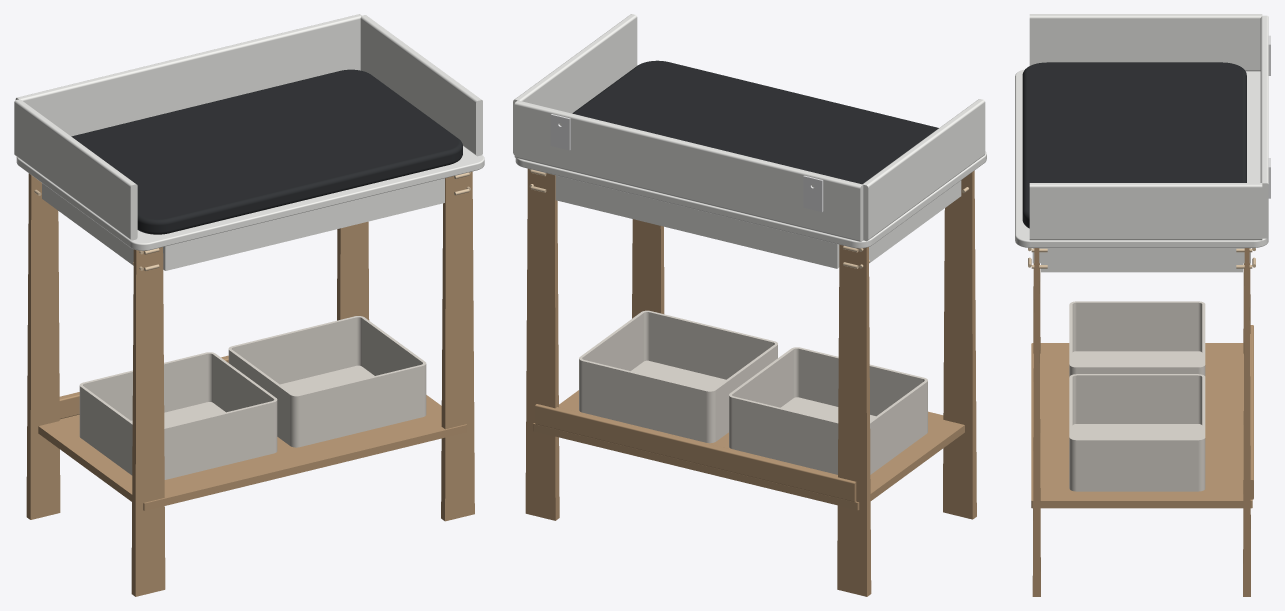
3 views of the same model, side by side, from view 1: azimuth 30°, elevation 25°; view 2: azimuth 150°, elevation 25°; view 3: azimuth 270°, elevation 25° (orthographic).
Visible parts, largest first — view 1: coat.1, fabric.2, body.6, fabric.1, wood.4, wood.5, wood.3, wood.2, body.8, body.3, body.7, body.1 (+2 smaller); view 2: coat.1, body.6, fabric.2, fabric.1, wood.2, wood.1, wood.4, wood.6, body.8, body.2, wood.5, body.7 (+5 smaller); view 3: coat.1, fabric.2, wood.5, body.7, body.8, fabric.1, body.1, body.4, wood.3, wood.1, body.6, wood.6.
Part boxes in pixels (<box>): coat.1: <box>71,69,462,234</box>; fabric.2: <box>228,316,426,447</box>; body.6: <box>15,14,361,136</box>; fabric.1: <box>79,352,277,479</box>; wood.4: <box>131,247,165,596</box>; wood.5: <box>38,395,466,510</box>; wood.3: <box>441,171,474,521</box>; wood.2: <box>26,173,60,519</box>; body.8: <box>14,99,137,240</box>; body.3: <box>163,178,444,270</box>; body.7: <box>360,15,482,156</box>; body.1: <box>16,146,484,250</box>; coat.1: <box>572,60,938,184</box>; body.6: <box>514,100,863,241</box>; fabric.2: <box>579,310,777,443</box>; fabric.1: <box>729,347,927,474</box>; wood.2: <box>837,244,871,596</box>; wood.1: <box>525,168,559,520</box>; wood.4: <box>943,170,976,519</box>; wood.6: <box>535,404,856,502</box>; body.8: <box>862,99,985,241</box>; body.2: <box>555,175,839,268</box>; wood.5: <box>533,390,964,510</box>; body.7: <box>513,14,637,154</box>; coat.1: <box>1022,62,1246,228</box>; fabric.2: <box>1069,374,1205,491</box>; wood.5: <box>1031,343,1252,508</box>; body.7: <box>1029,183,1262,240</box>; body.8: <box>1029,14,1262,71</box>; fabric.1: <box>1069,301,1205,376</box>; body.1: <box>1015,69,1268,247</box>; body.4: <box>1041,248,1242,272</box>; wood.3: <box>1032,248,1040,596</box>; wood.1: <box>1243,248,1250,596</box>; body.6: <box>1260,15,1268,238</box>; wood.6: <box>1250,325,1253,499</box>.
Bounding box in the file's own units: 0.9 × 1.01 × 0.5645.
